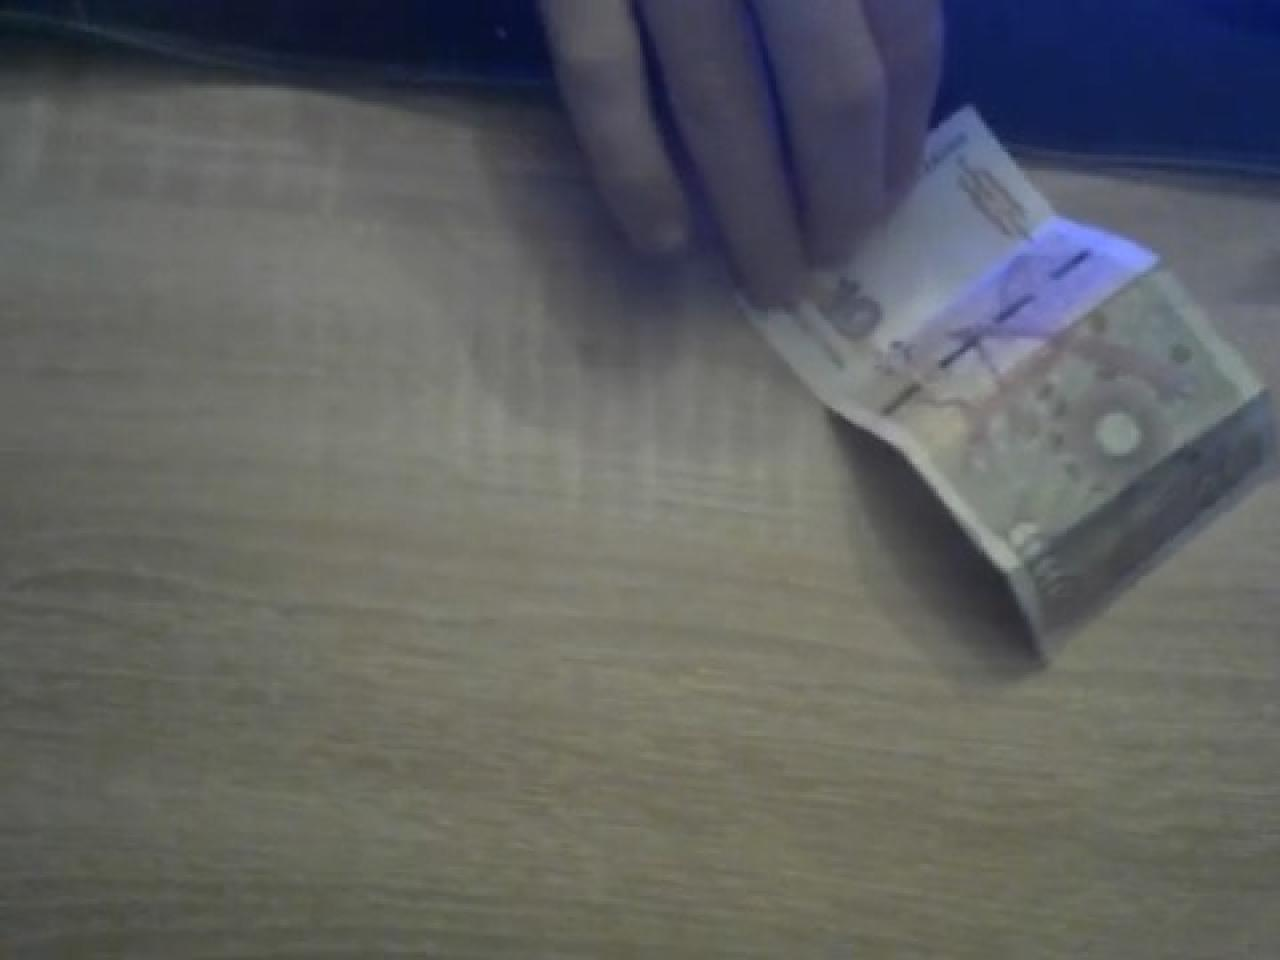10leva: (736, 109, 1280, 683)
